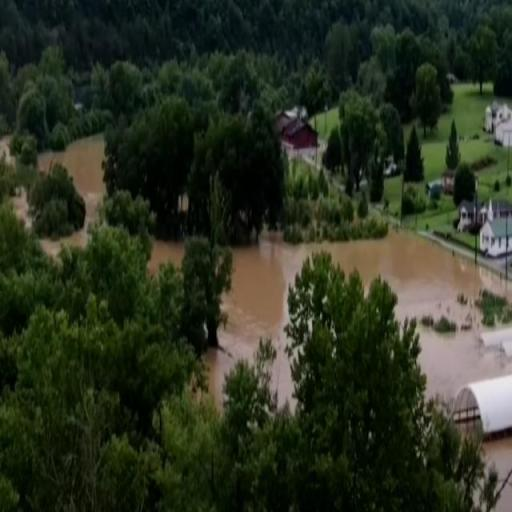flood: (206, 230, 512, 404), (38, 134, 104, 255), (486, 438, 512, 478), (150, 241, 183, 271), (498, 486, 512, 512), (14, 196, 26, 218)
house: (276, 104, 321, 192), (464, 200, 510, 262), (487, 98, 512, 153)
